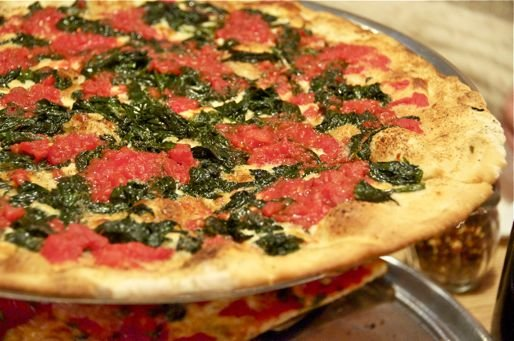sandwich: (1, 0, 503, 310), (0, 257, 396, 338)
